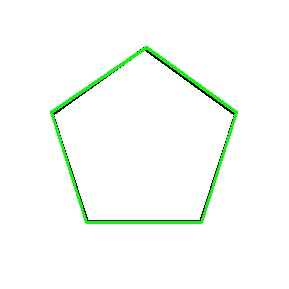line_segment: (51, 47, 237, 223)
